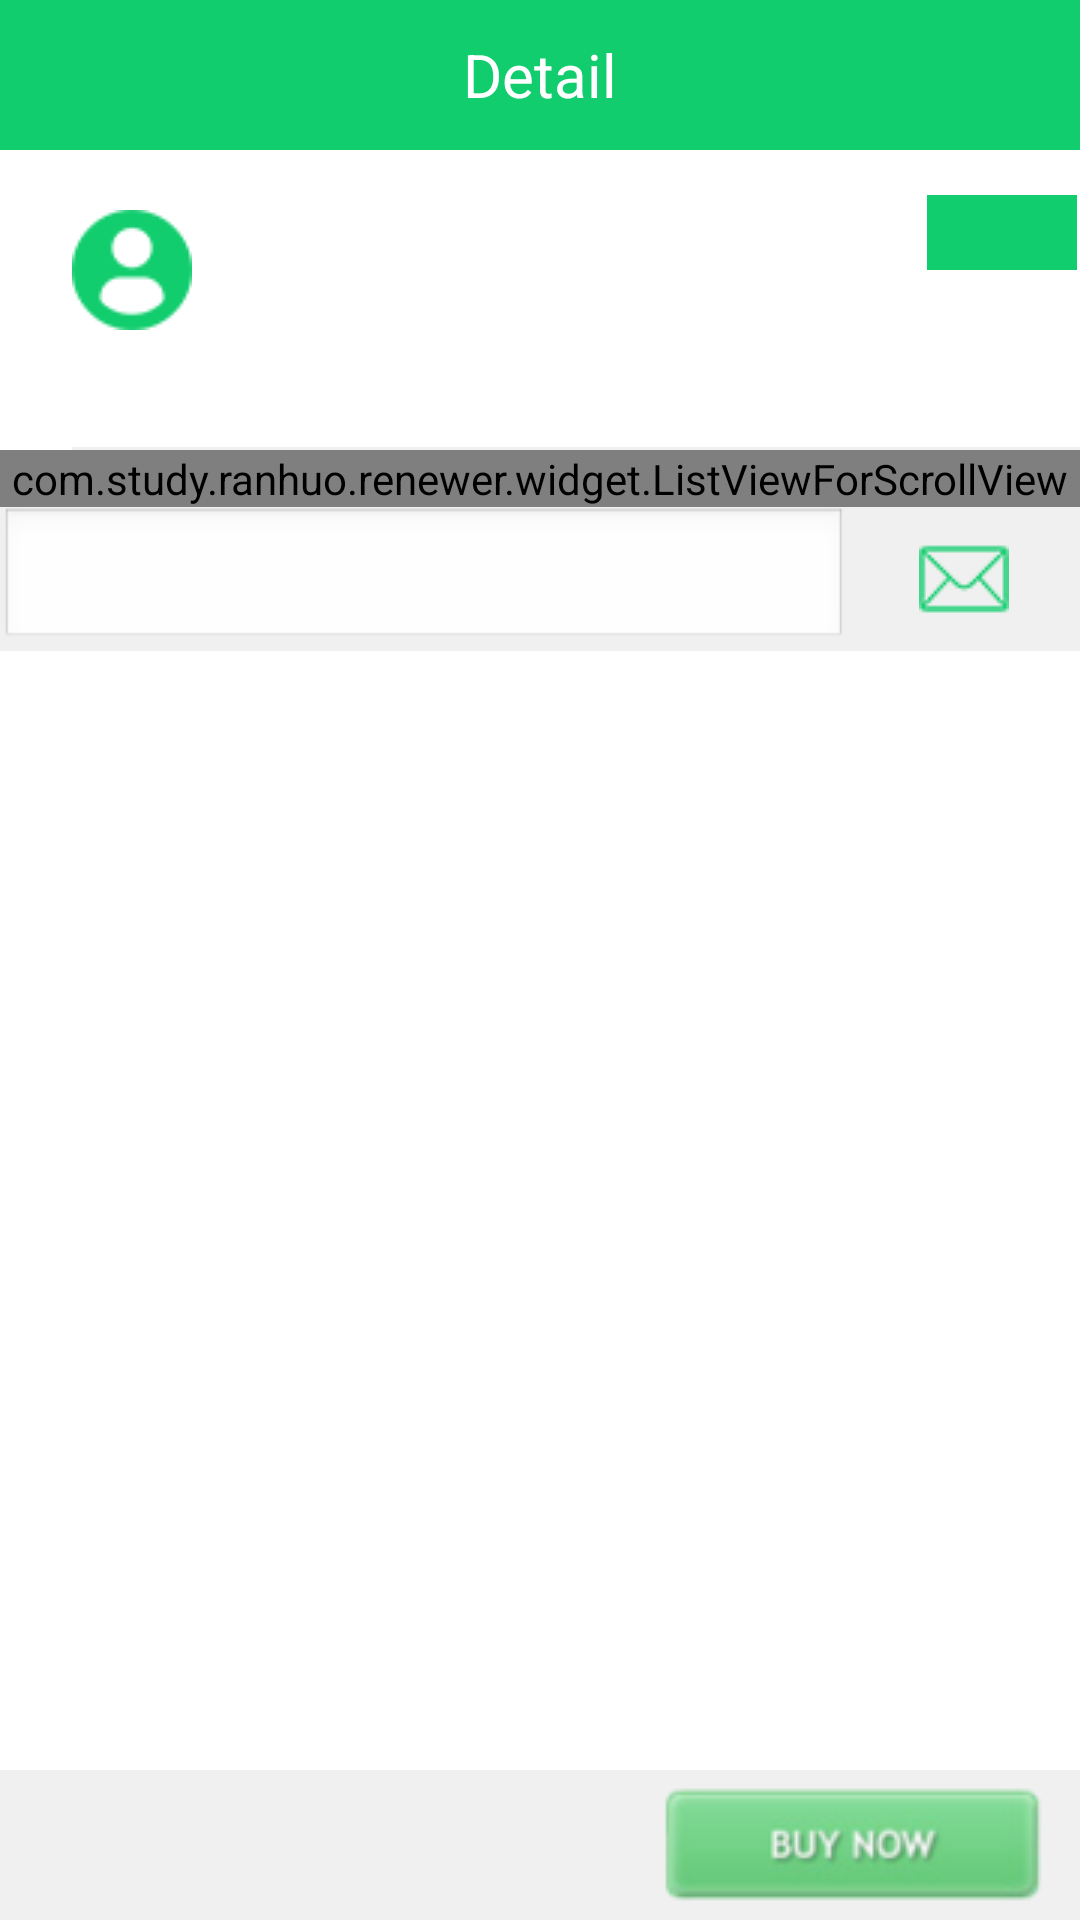

Icons on this 1080×1920 Android screen, each with the point to tap as (x=x, y=y):
detail send comment: (x=964, y=579)
profile: (x=132, y=270)
